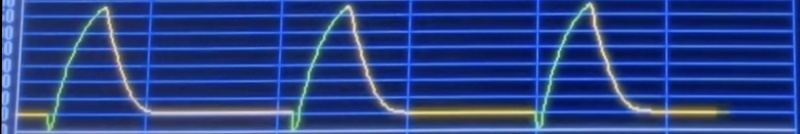leakage: (20, 0, 723, 134)
